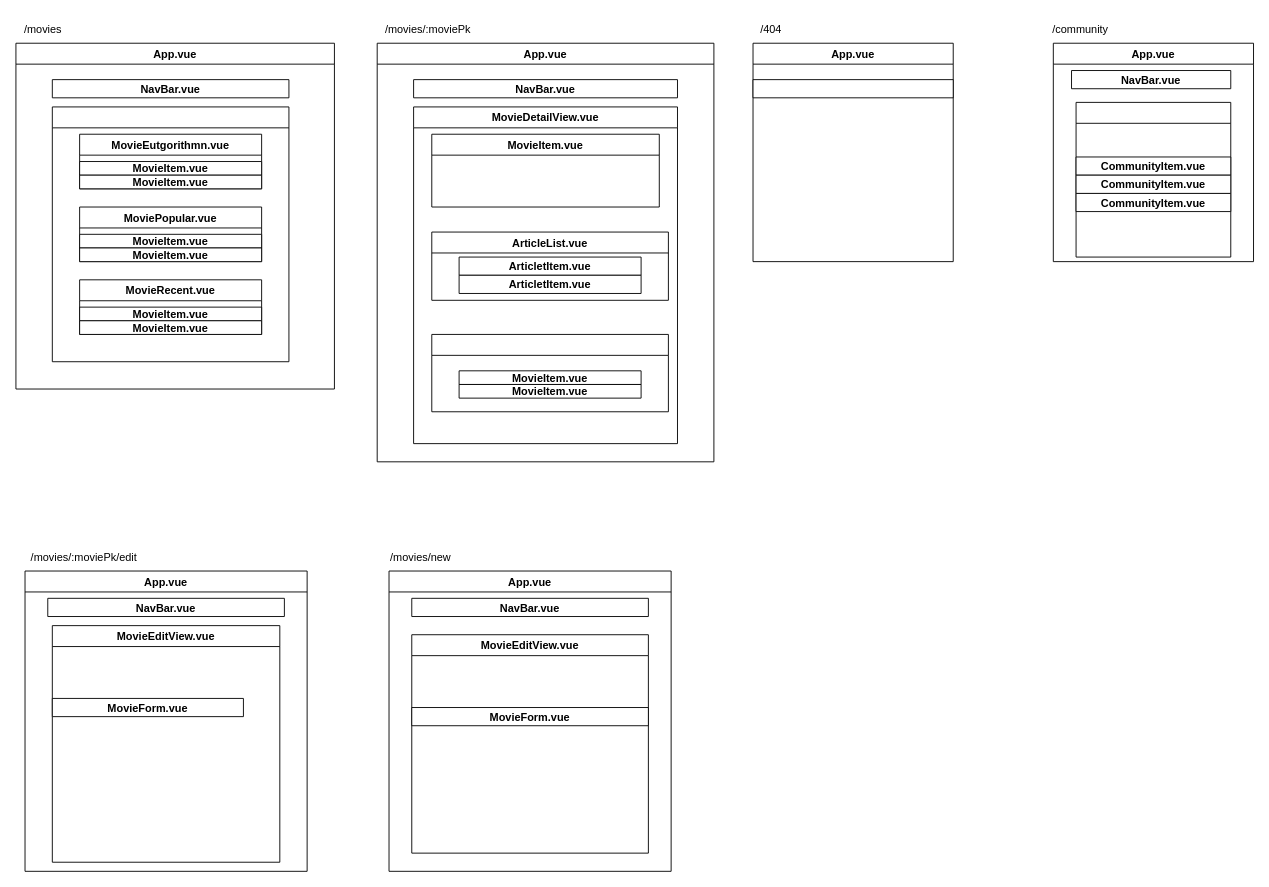
Some shapes in this 1269 by 887 pixel diagram are drawn without their labels. The box of each missing label's shape, as (x1, y1, x2, y2) in pixels:
CommunityView.vue: (1075, 101, 1231, 257)
MovieCategoryView.vue: (51, 106, 289, 362)
MovieRecommend.vue: (431, 334, 668, 412)
NotFound404.vue (views): (752, 79, 953, 98)
